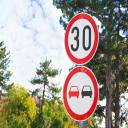speed_limit_30: (62, 12, 100, 66)
